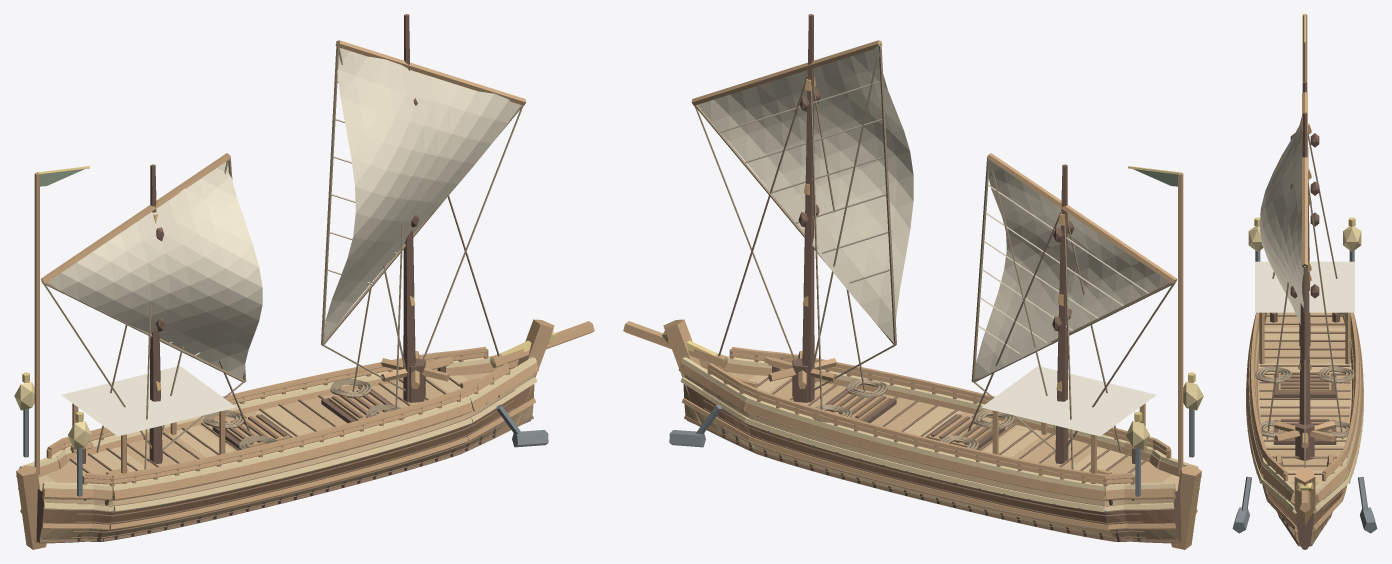
File: sambuk-v5-mobile.glb
The picture shows the model from 3 angles, left to right: view 1: azimuth 30°, elevation 25°; view 2: azimuth 150°, elevation 25°; view 3: azimuth 270°, elevation 25°; orthographic projection. The views are drawn at different scales.
Visible parts, largest first — view 1: sambuk_sails_sail, sambuk_hull_wood, sambuk_hull_pale, sambuk_railings_wood, sambuk_hull_seam, sambuk_ornament_sailbright, sambuk_hull_pine, sambuk_hull_hull2, sambuk_rigging_rope, sambuk_hull_deck, sambuk_masts_darkwood, sambuk_rigging_wood (+11 smaller); view 2: sambuk_sails_sail, sambuk_hull_wood, sambuk_hull_pale, sambuk_railings_wood, sambuk_hull_seam, sambuk_ornament_sailbright, sambuk_masts_darkwood, sambuk_rigging_rope, sambuk_hull_pine, sambuk_hull_hull2, sambuk_hull_deck, sambuk_rigging_wood (+13 smaller); view 3: sambuk_sails_sail, sambuk_hull_deck, sambuk_hull_wood, sambuk_ornament_sailbright, sambuk_hull_seam, sambuk_hull_decklight, sambuk_masts_darkwood, sambuk_railings_wood, sambuk_hull_pale, sambuk_fittings_darkwood, sambuk_fittings_wood, sambuk_masts_rope (+13 smaller).
Boxes of the visible parts, x1=… form: sambuk_sails_sail: x1=47, y1=48, x2=520, y2=378; sambuk_hull_wood: x1=16, y1=319, x2=594, y2=549; sambuk_hull_pale: x1=18, y1=355, x2=537, y2=512; sambuk_railings_wood: x1=46, y1=347, x2=510, y2=495; sambuk_hull_seam: x1=24, y1=377, x2=533, y2=543; sambuk_ornament_sailbright: x1=61, y1=366, x2=236, y2=436; sambuk_hull_pine: x1=39, y1=374, x2=533, y2=539; sambuk_hull_hull2: x1=37, y1=384, x2=534, y2=542; sambuk_rigging_rope: x1=42, y1=43, x2=523, y2=450; sambuk_hull_deck: x1=46, y1=368, x2=513, y2=497; sambuk_masts_darkwood: x1=149, y1=14, x2=419, y2=463; sambuk_rigging_wood: x1=41, y1=40, x2=526, y2=284; sambuk_sails_sail: x1=698, y1=45, x2=1170, y2=379; sambuk_hull_wood: x1=623, y1=319, x2=1201, y2=549; sambuk_hull_pale: x1=680, y1=355, x2=1199, y2=512; sambuk_railings_wood: x1=707, y1=347, x2=1171, y2=495; sambuk_hull_seam: x1=684, y1=377, x2=1193, y2=543; sambuk_ornament_sailbright: x1=981, y1=366, x2=1156, y2=436; sambuk_masts_darkwood: x1=798, y1=14, x2=1073, y2=463; sambuk_rigging_rope: x1=694, y1=43, x2=1175, y2=450; sambuk_hull_pine: x1=684, y1=374, x2=1178, y2=539; sambuk_hull_hull2: x1=683, y1=384, x2=1180, y2=542; sambuk_hull_deck: x1=704, y1=368, x2=1171, y2=497; sambuk_rigging_wood: x1=691, y1=40, x2=1176, y2=284; sambuk_sails_sail: x1=1259, y1=117, x2=1303, y2=324; sambuk_hull_deck: x1=1258, y1=312, x2=1351, y2=486; sambuk_hull_wood: x1=1246, y1=312, x2=1363, y2=538; sambuk_ornament_sailbright: x1=1255, y1=261, x2=1354, y2=312; sambuk_hull_seam: x1=1259, y1=315, x2=1350, y2=546; sambuk_hull_decklight: x1=1258, y1=327, x2=1351, y2=481; sambuk_masts_darkwood: x1=1290, y1=81, x2=1319, y2=424; sambuk_railings_wood: x1=1250, y1=312, x2=1359, y2=481; sambuk_hull_pale: x1=1246, y1=328, x2=1363, y2=513; sambuk_fittings_darkwood: x1=1270, y1=312, x2=1339, y2=466; sambuk_fittings_wood: x1=1271, y1=312, x2=1338, y2=465; sambuk_masts_rope: x1=1264, y1=135, x2=1345, y2=439.
Size of the model in its own units: 38.73 by 28.67 by 9.63.
